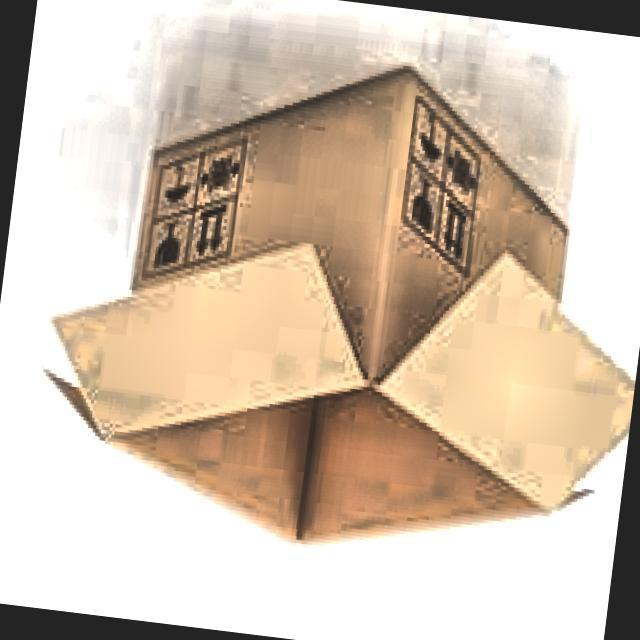cardboard: (22, 29, 640, 591)
